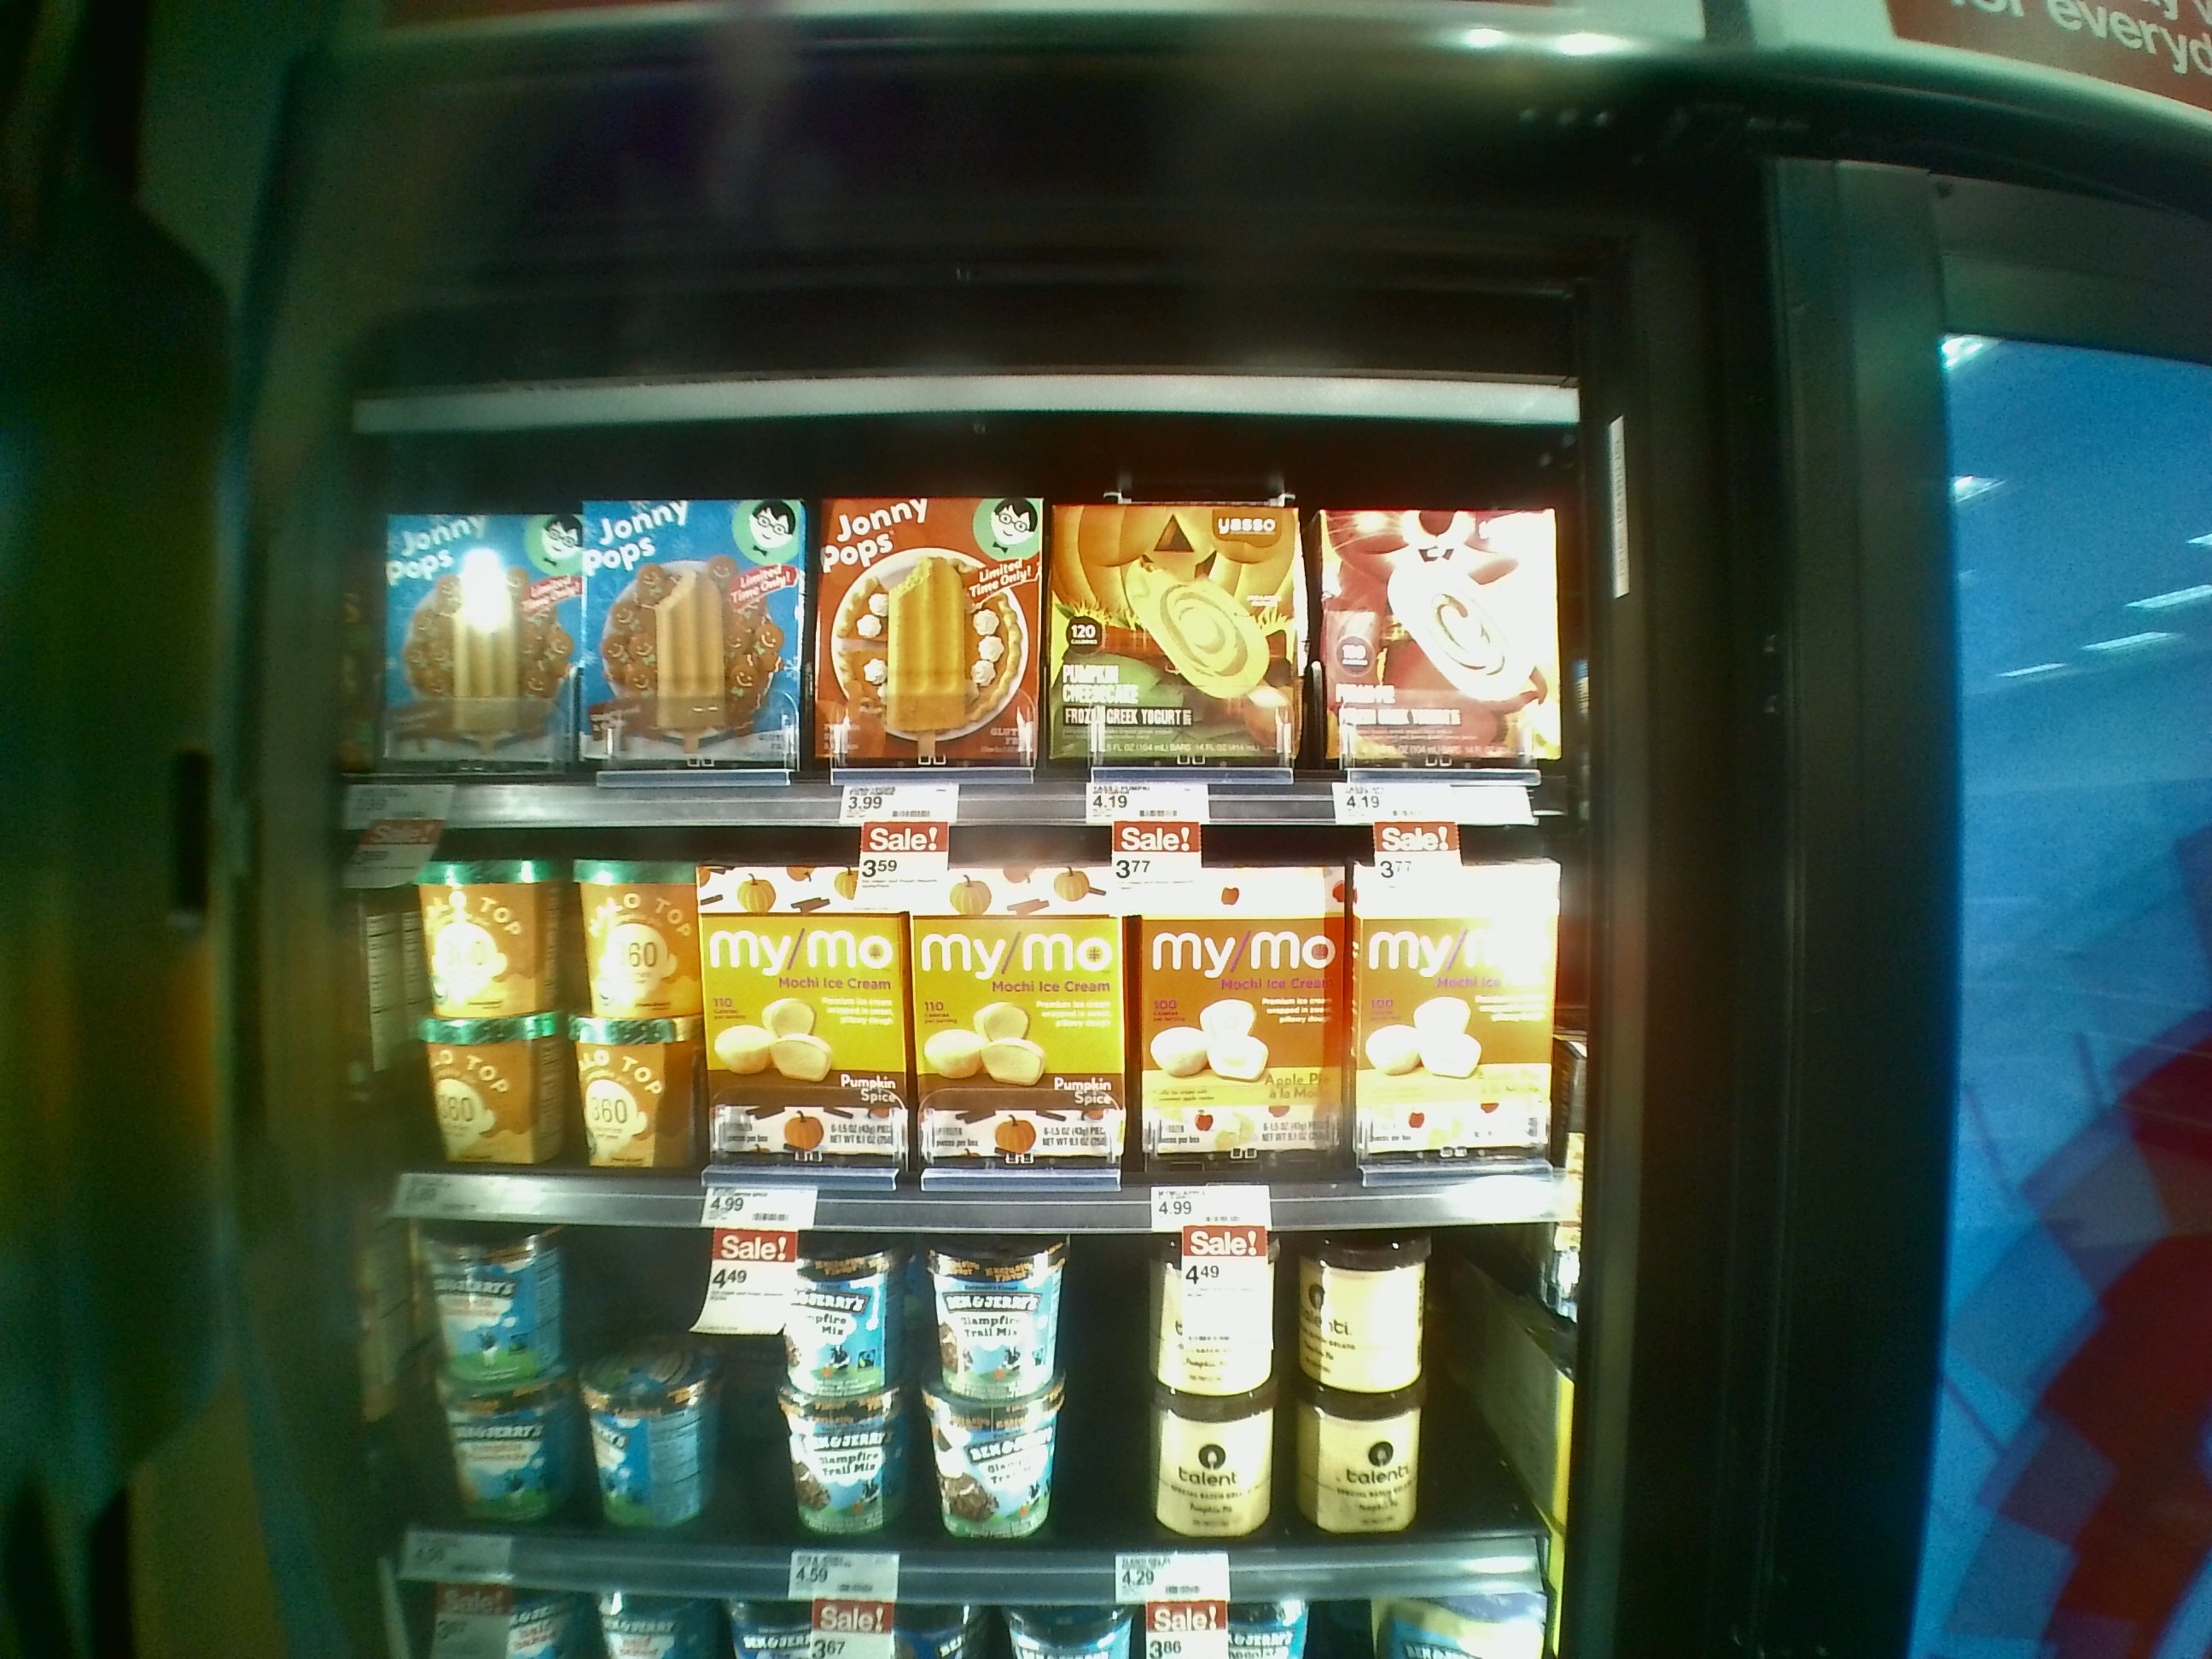shelf: (314, 828, 1592, 1225), (333, 434, 1604, 829), (314, 1208, 1578, 1586)
